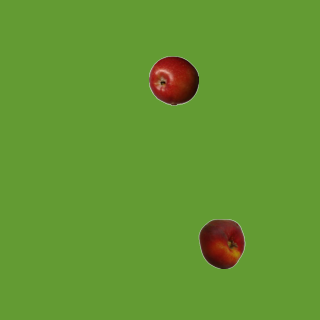Apple Braeburn: (148, 55, 198, 105)
Nectarine Flat: (196, 218, 246, 268)
